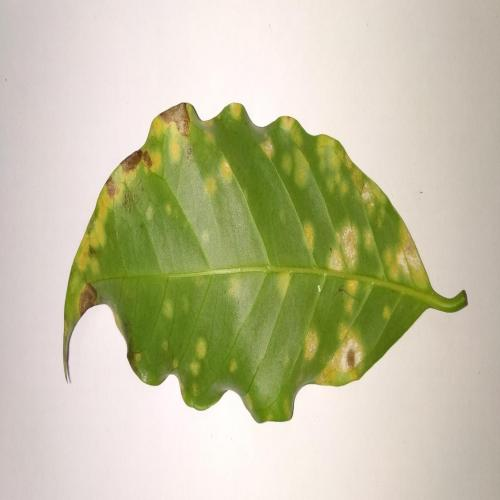phoma: (63, 103, 196, 378)
